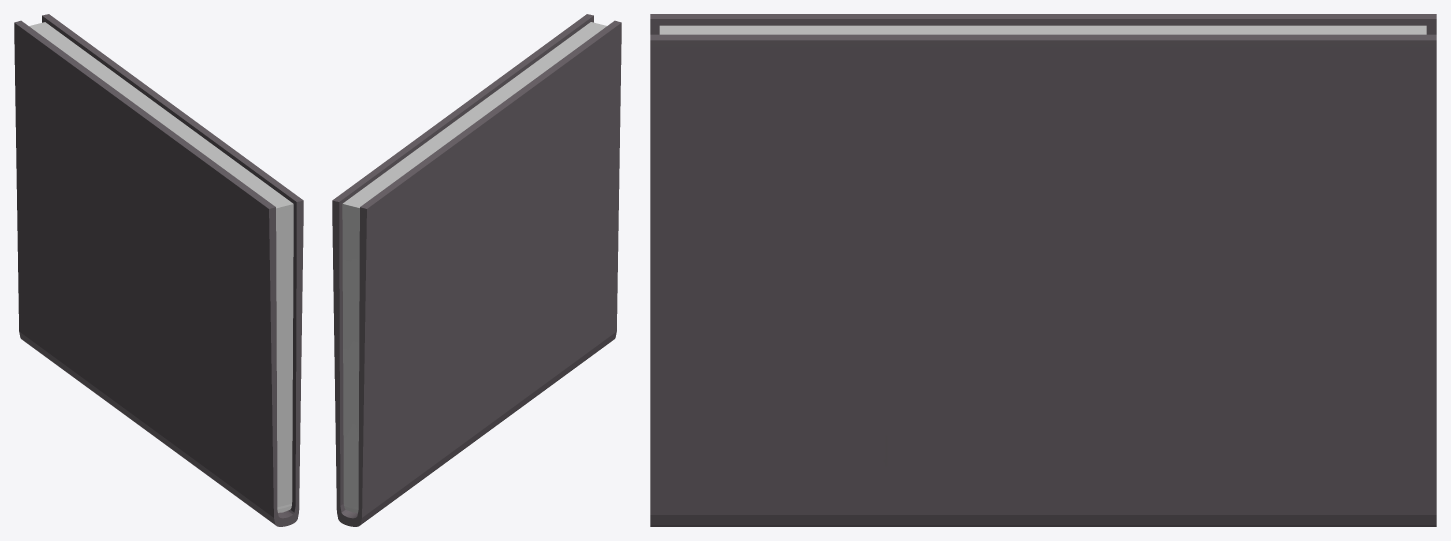
File: book_closed.fbx
3 views of the same model, side by side, from view 1: azimuth 30°, elevation 25°; view 2: azimuth 150°, elevation 25°; view 3: azimuth 270°, elevation 25° (orthographic). The views are drawn at different scales.
Visible parts, largest first — view 1: borito_Cube; view 2: borito_Cube; view 3: borito_Cube.
Boxes of the visible parts, box(x1,y1,x2,y2) form: borito_Cube: box(14, 14, 303, 526); borito_Cube: box(332, 14, 621, 526); borito_Cube: box(650, 14, 1436, 526).
Bounding box in the file's own units: 6.05 × 53.47 × 76.8.
